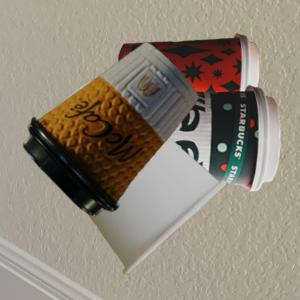cup: (23, 42, 199, 217)
